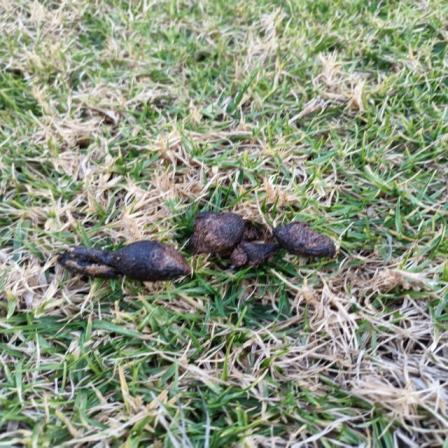dog-poop: (191, 205, 334, 273), (55, 233, 195, 286)
